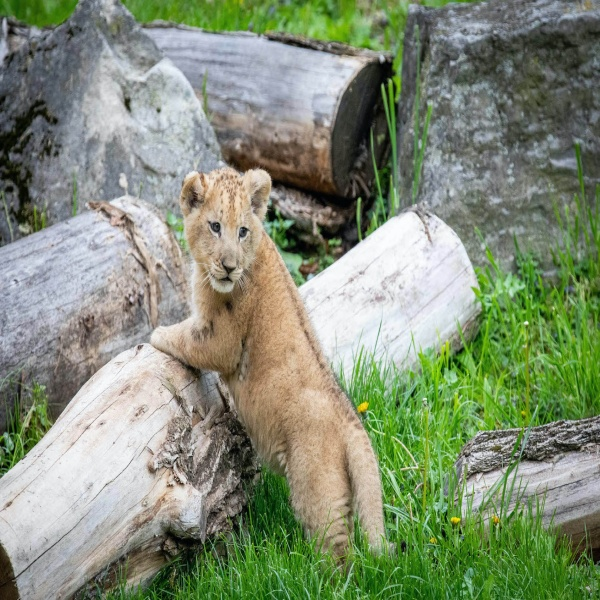Lion: (147, 162, 404, 577)
